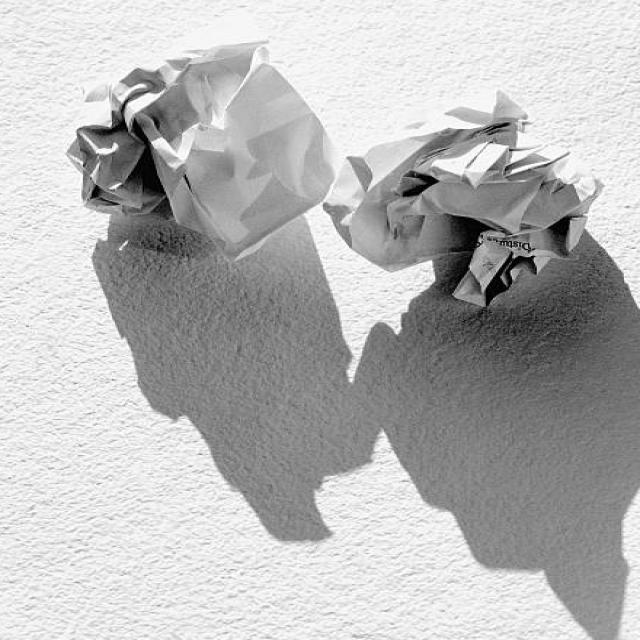electronic: (322, 87, 604, 307), (66, 38, 340, 262)
